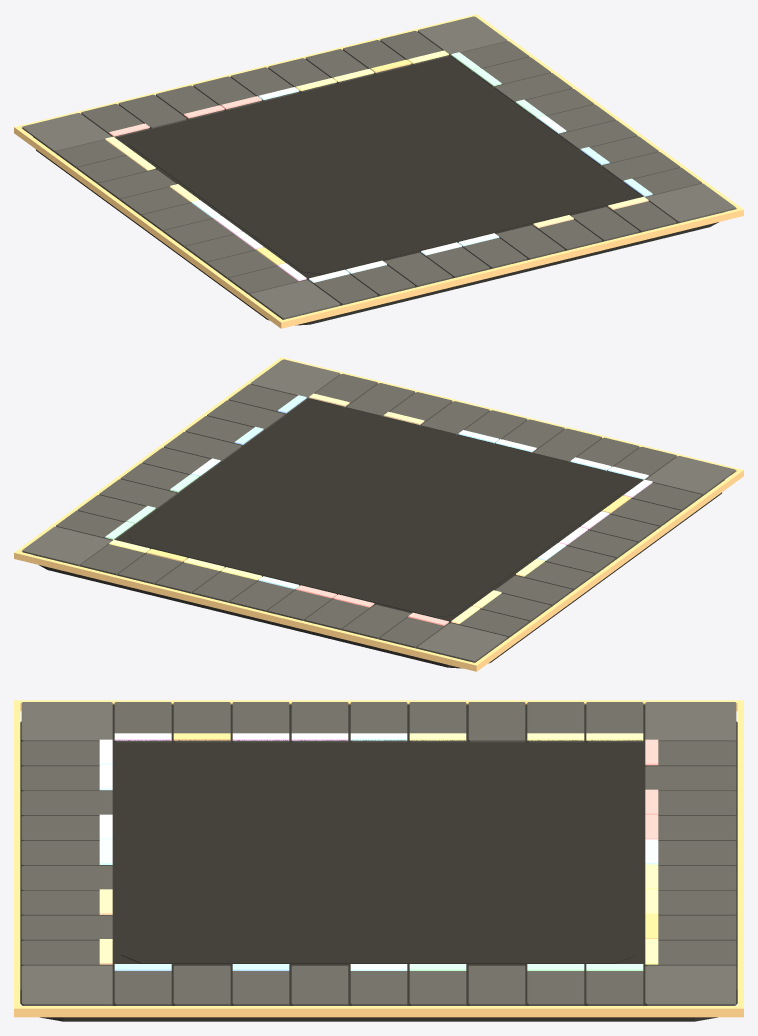
Rendered from board.glb.
3 renders of one model, top to bottom at view 1: azimuth 30°, elevation 25°; view 2: azimuth 150°, elevation 25°; view 3: azimuth 270°, elevation 25°, orthographic. The views are drawn at different scales.
Visible parts, largest first — view 1: centre_well, board_base, board_rim_y.001, board_rim_x.001, tile_10, tile_00, tile_20, tile_30, tile_02, tile_04, tile_07, tile_22 (+34 smaller); view 2: centre_well, board_base, board_rim_y, board_rim_x.001, tile_20, tile_30, tile_10, tile_00, tile_04, tile_22, tile_07, tile_02 (+34 smaller); view 3: centre_well, board_base, board_rim_x, tile_00, tile_30, tile_10, tile_20, tile_38, tile_33, tile_36, tile_17, tile_02 (+34 smaller).
Boxes of the visible parts, bbox=[...] form: centre_well: bbox=[128, 62, 629, 274]; board_base: bbox=[33, 55, 724, 325]; board_rim_y.001: bbox=[279, 208, 743, 327]; board_rim_x.001: bbox=[14, 128, 285, 328]; tile_10: bbox=[250, 280, 340, 319]; tile_00: bbox=[646, 183, 735, 222]; tile_20: bbox=[22, 113, 111, 152]; tile_30: bbox=[417, 16, 507, 55]; tile_02: bbox=[571, 207, 639, 241]; tile_04: bbox=[496, 225, 564, 259]; tile_07: bbox=[384, 252, 452, 286]; tile_22: bbox=[118, 94, 186, 128]; centre_well: bbox=[128, 405, 629, 617]; board_base: bbox=[33, 398, 724, 668]; board_rim_y: bbox=[14, 551, 478, 670]; board_rim_x.001: bbox=[472, 470, 743, 671]; tile_20: bbox=[417, 623, 507, 662]; tile_30: bbox=[22, 526, 111, 565]; tile_10: bbox=[646, 456, 735, 495]; tile_00: bbox=[250, 359, 340, 398]; tile_04: bbox=[421, 401, 489, 435]; tile_22: bbox=[343, 604, 410, 638]; tile_07: bbox=[534, 428, 601, 462]; tile_02: bbox=[347, 383, 414, 416]; centre_well: bbox=[121, 745, 636, 963]; board_base: bbox=[20, 704, 737, 1021]; board_rim_x: bbox=[14, 1006, 743, 1017]; tile_00: bbox=[21, 965, 112, 1005]; tile_30: bbox=[645, 965, 736, 1005]; tile_10: bbox=[21, 702, 112, 741]; tile_20: bbox=[645, 702, 736, 741]; tile_38: bbox=[173, 965, 230, 1005]; tile_33: bbox=[468, 965, 525, 1005]; tile_36: bbox=[291, 965, 348, 1005]; tile_17: bbox=[468, 702, 525, 742]; tile_02: bbox=[21, 915, 112, 940].
Bounding box in the file's own units: 20.36 × 0.605 × 20.36.
